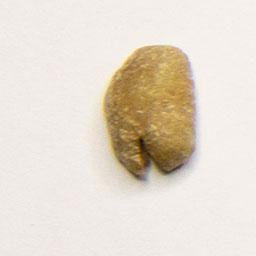defect: (98, 41, 201, 183)
